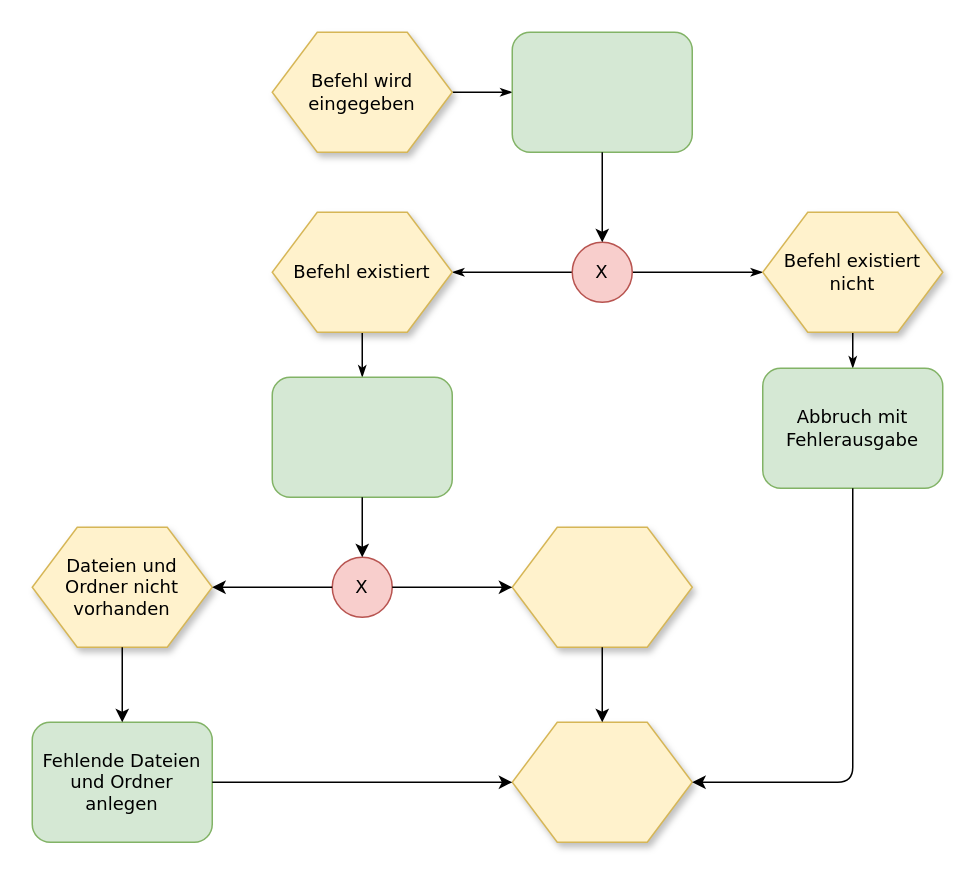
Some shapes in this 978 by 879 pixel diagram are drawn without their labels. Here are the shapes that lost their labels. From the top down, the centre of each, then its label:
At (x=601, y=91): "Prüfe ob Befehl existiert".
At (x=361, y=436): "Befehl wird ausgeführt".
At (x=603, y=589): "Dateien und Ordner vorhanden".
At (x=603, y=784): "Programm Ende".
